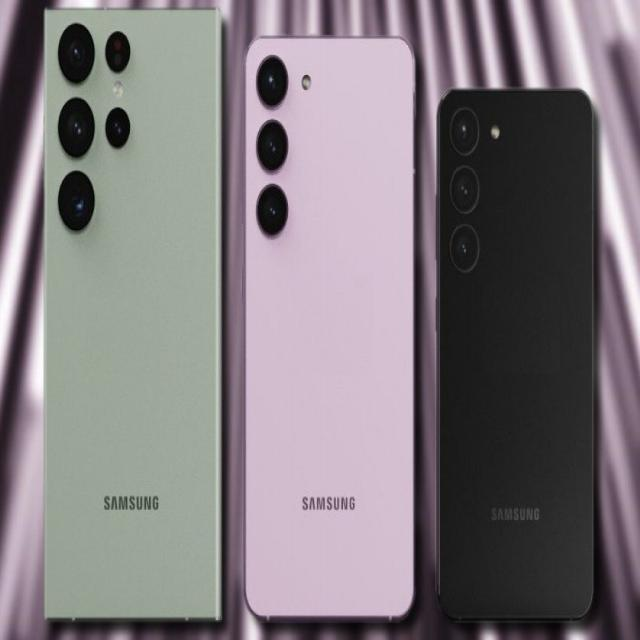phone: (44, 9, 224, 621), (246, 34, 414, 615), (438, 88, 594, 618)
